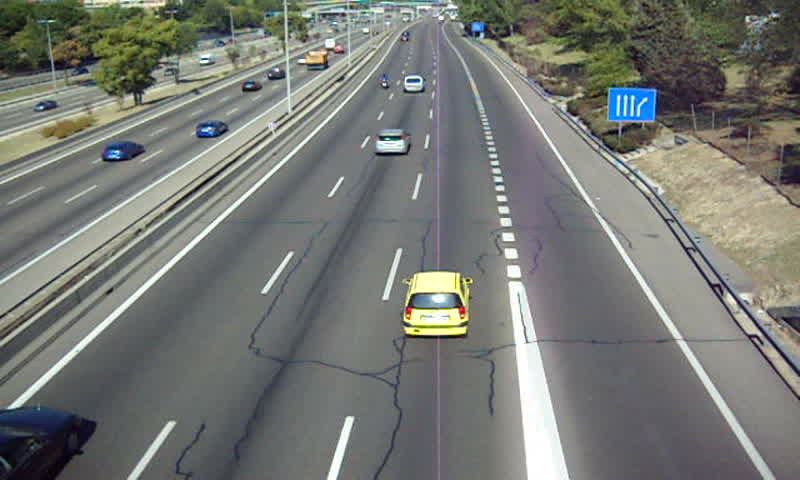car: (402, 271, 473, 337), (376, 127, 413, 155), (404, 74, 423, 92)
motorcycle: (380, 74, 390, 89)
